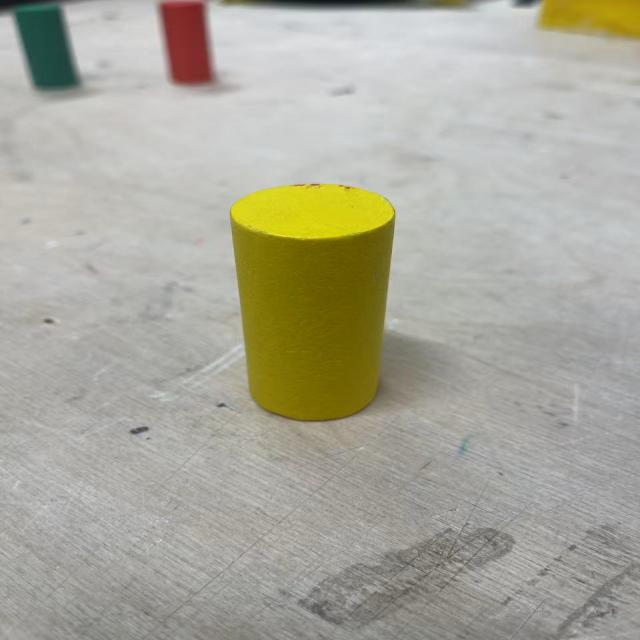yellow_cylinder: (228, 181, 397, 424)
